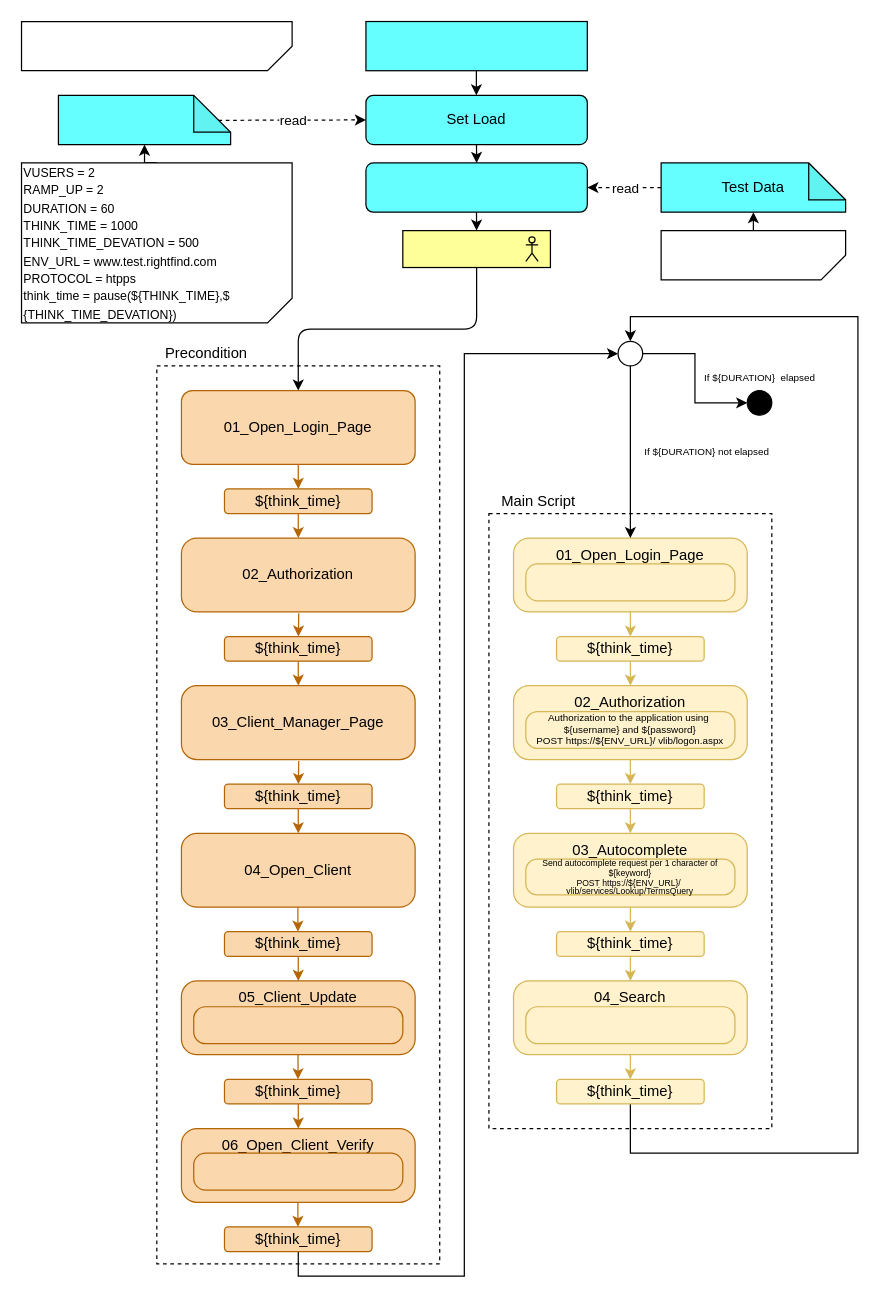
This 889x1307 diagram has some shape labels left out. Here are the shapes that lost their labels. From the top down, the centre of each, then its label:
(156,45): 5_1_RFE_UI_Search_ Regular_Search_No_Semantic
(476,45): Start Test
(144,119): Load Model
(476,187): Set Test Data
(476,248): vUser
(753,254): searchphrase = ${searchphrase} username = ${username} password = ${password}
(630,582): Open application main page - GET https://${ENV_URL}/
(297,1025): "RightFind Insight" uncheck
(630,1025): Search for specific ${keyword} GET https://${ENV_URL}/vlib/order/ordersearch.apx
(297,1171): Verify Precondition setup
